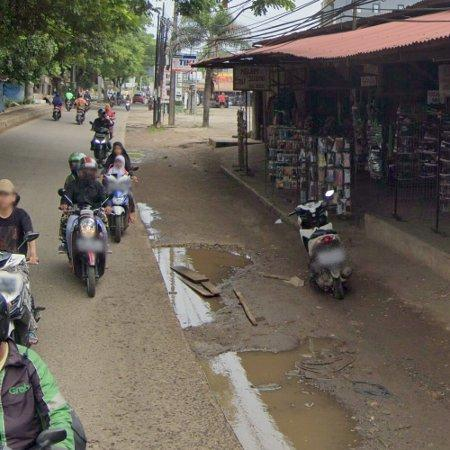motorcycles: (289, 189, 352, 300), (66, 205, 108, 297)
